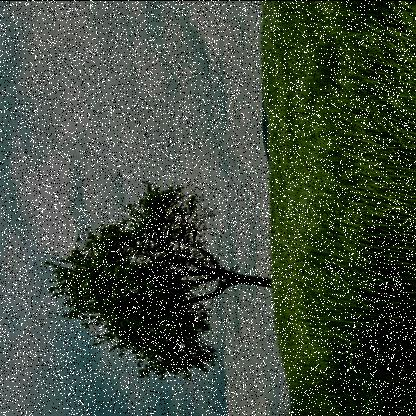Tree: (44, 179, 274, 381)
